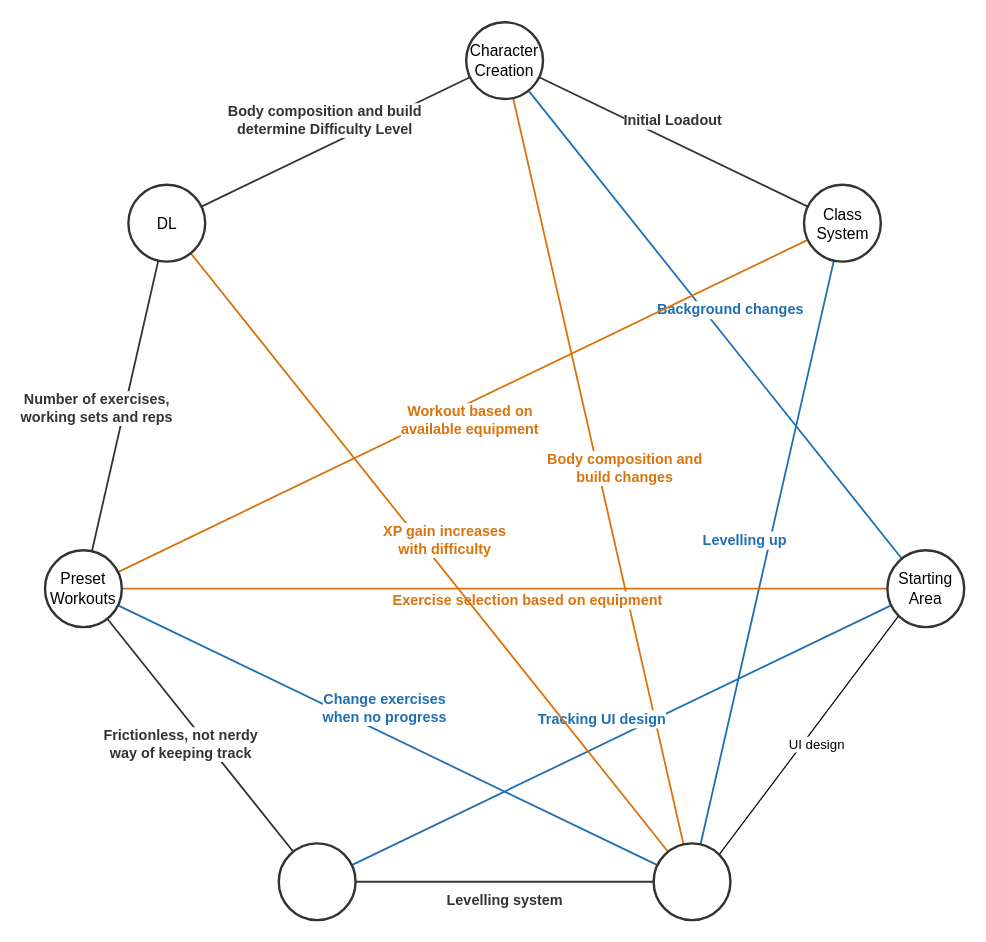
This 986x942 diagram has some shape labels left out. The centre of each missing label's shape, as x and y in pixels:
Motivation System: pixel 691 881
Tracking Sets: pixel 316 881
